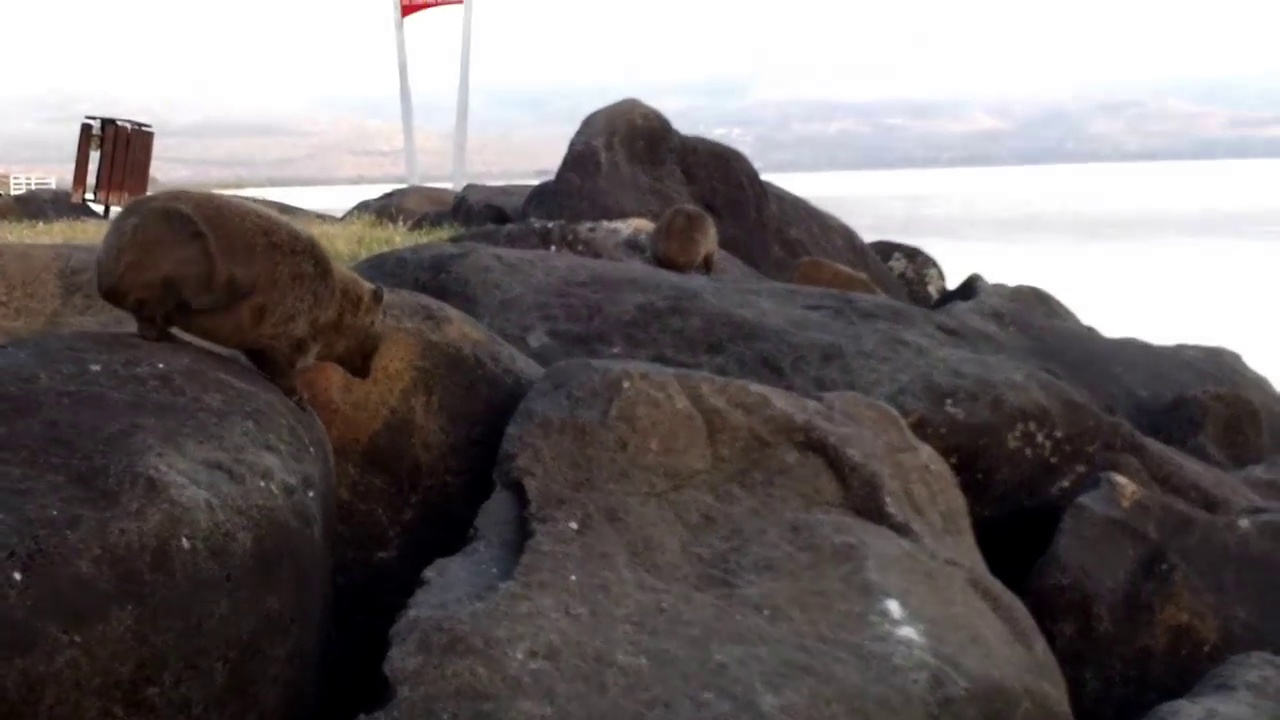Rock Hyrex: (92, 187, 387, 393), (645, 201, 718, 279), (785, 259, 893, 304)
